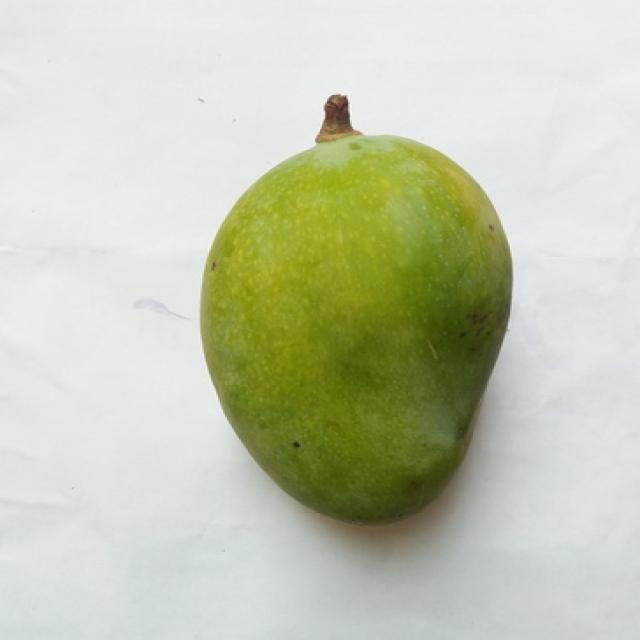Mango: (200, 95, 508, 522)
